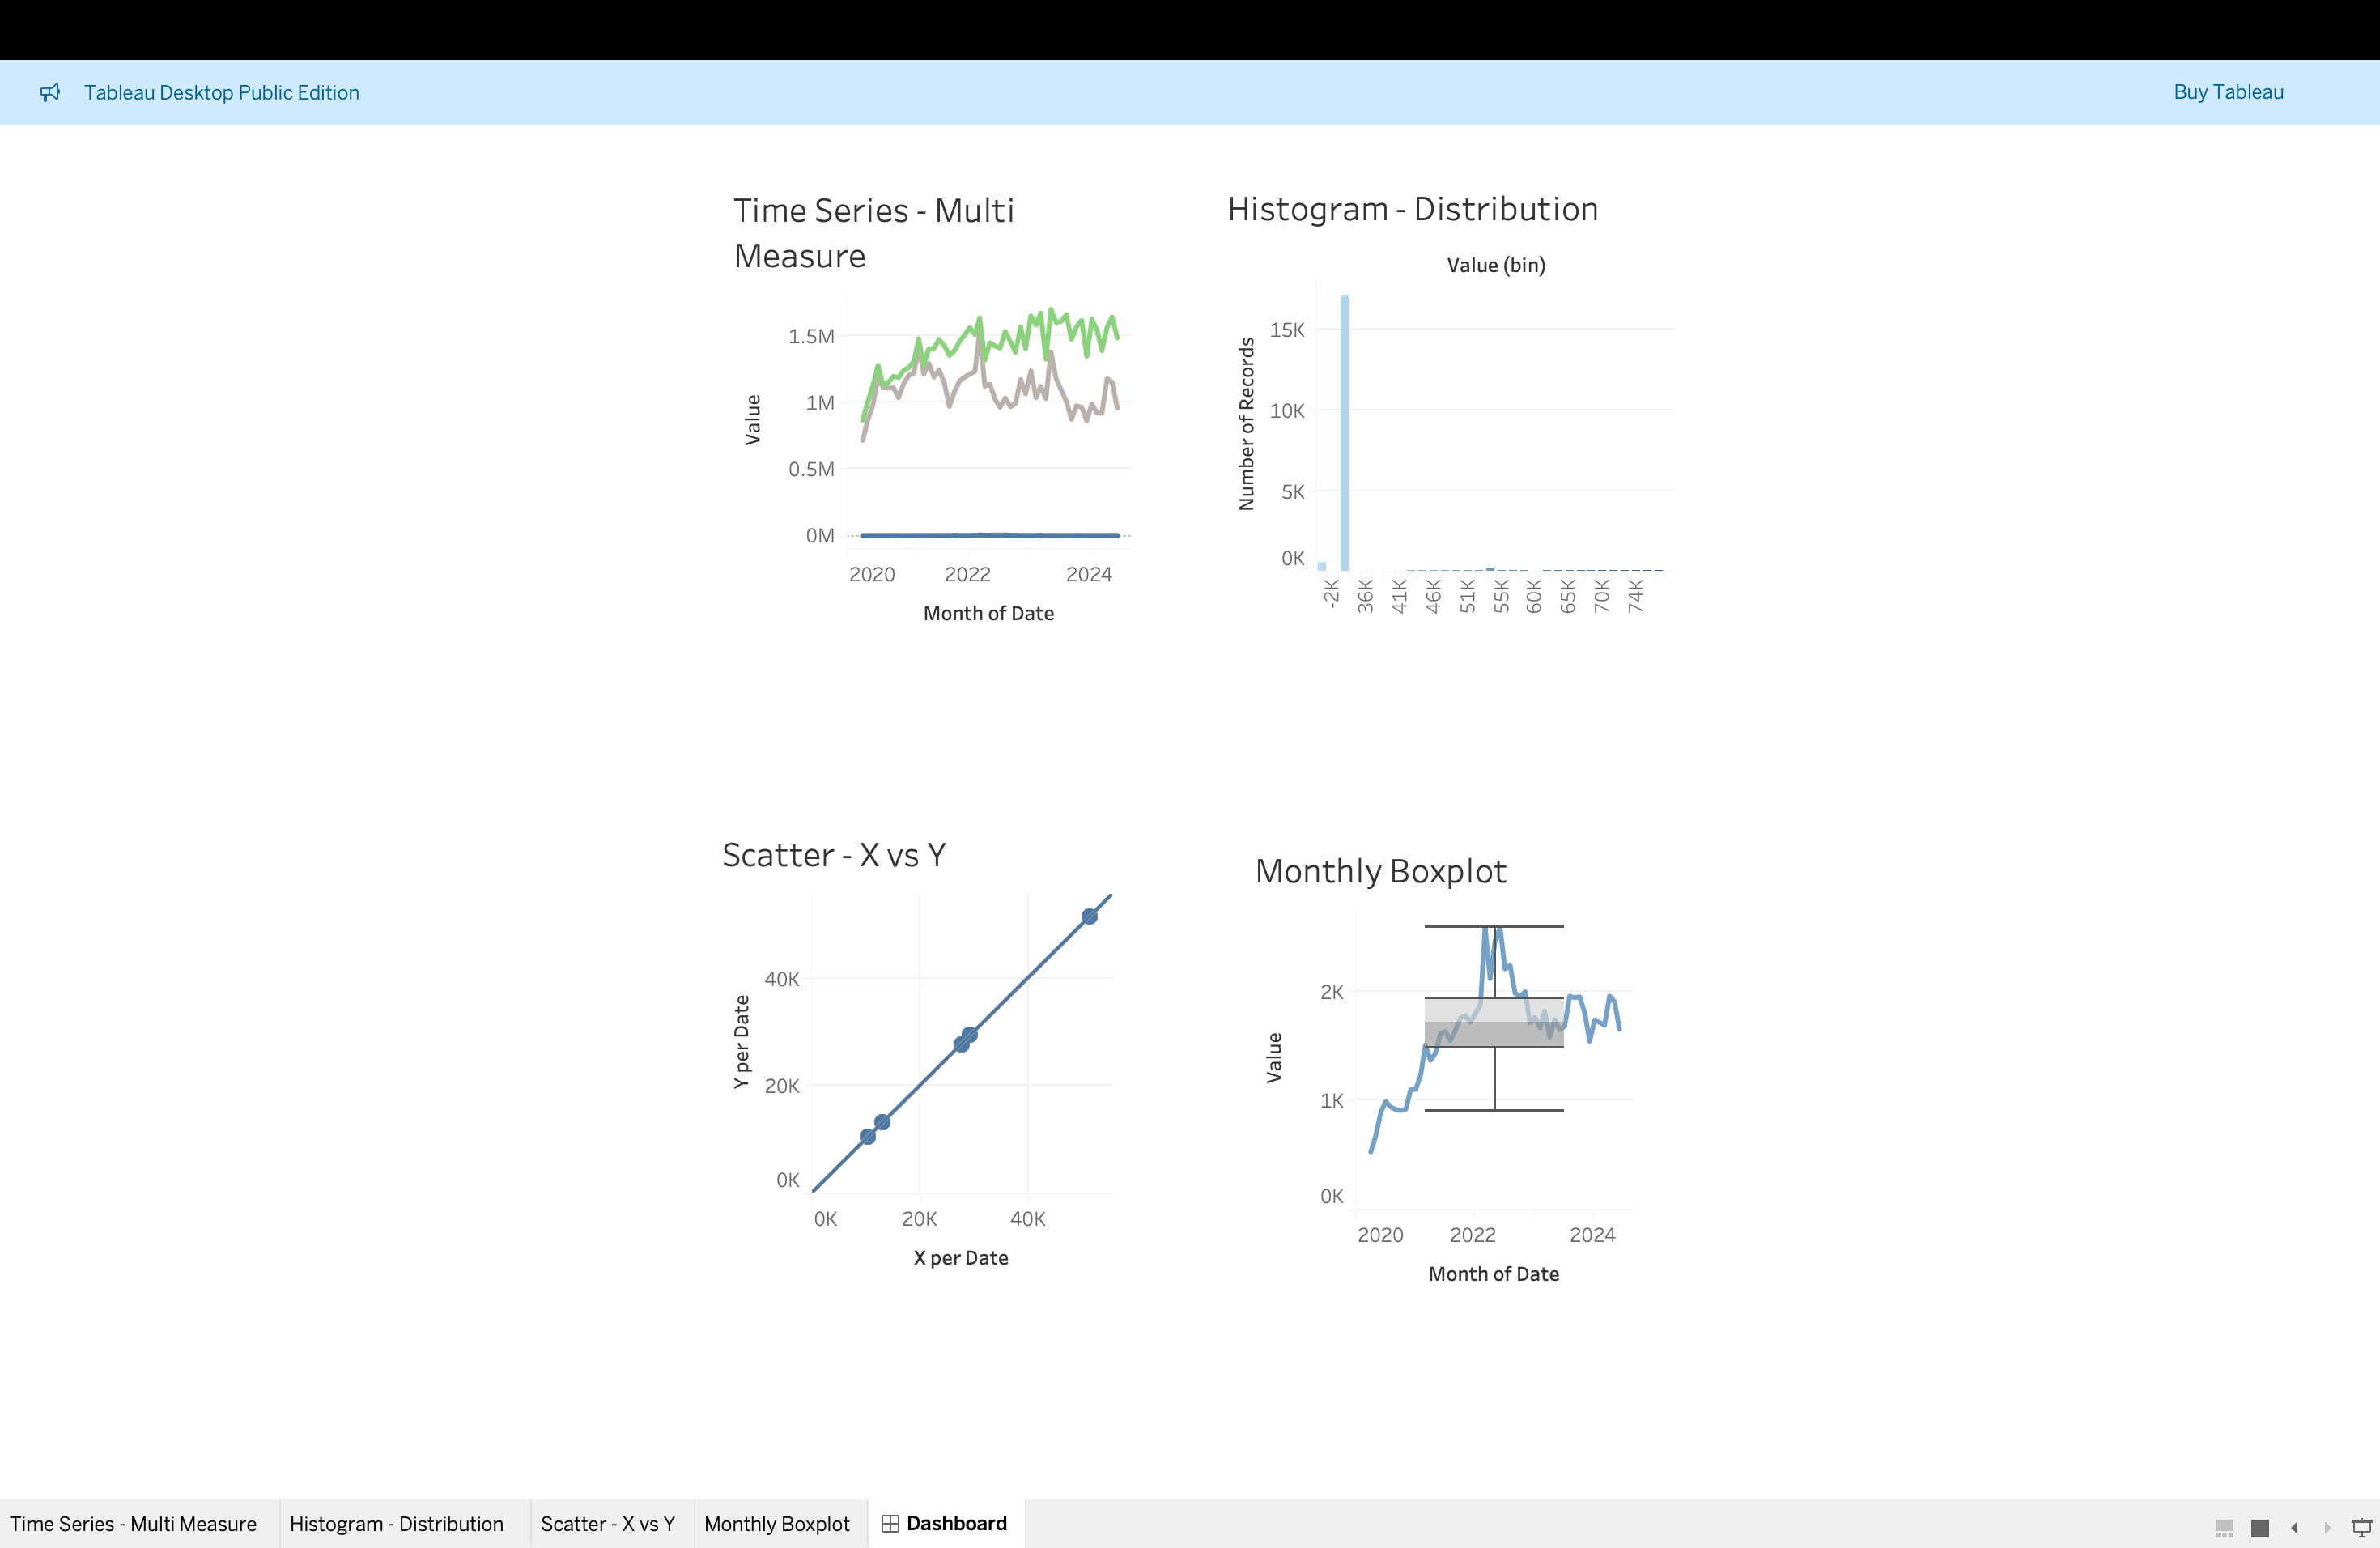

Layout of this report page (visuals, bound fields, positions):
{"tool":"tableau","page":{"name":"Dashboard ","canvas":[650,860],"ordinal":0},"visuals":[{"type":"worksheet","title":"Histogram - Distribution ","mark":"Bar","rows":["Calculation_1519964941762093056"],"cols":["Value (bin)"],"box":[344,33.7,281,286.7]},{"type":"worksheet","title":"Time Series - Multi Measure","mark":"Line","rows":["Pivot Field Values"],"cols":["Date"],"box":[39,34.9,250,286.7]},{"type":"worksheet","title":"Scatter - X vs Y","mark":"Circle","rows":["Calculation_1712282719792906243"],"cols":["Calculation_1712282719792828418"],"box":[32,437.5,245,286.7]},{"type":"worksheet","title":"Monthly Boxplot","mark":"Automatic","rows":["Pivot Field Values"],"cols":["Date"],"box":[361,447.4,238,286.7]}]}

Visuals, with their boxes on the page's 650x860 design canvas (x1, y1, x2, y2). These are canvas units, not pixel positions in the 2380x1548 screenshot, which may show the page scaled, cropped or inside an application window:
"Histogram - Distribution " worksheet (Bar marks): pyautogui.locateOnScreen(344, 34, 625, 320)
"Time Series - Multi Measure" worksheet (Line marks): pyautogui.locateOnScreen(39, 35, 289, 322)
"Scatter - X vs Y" worksheet (Circle marks): pyautogui.locateOnScreen(32, 438, 277, 724)
"Monthly Boxplot" worksheet: pyautogui.locateOnScreen(361, 447, 599, 734)
